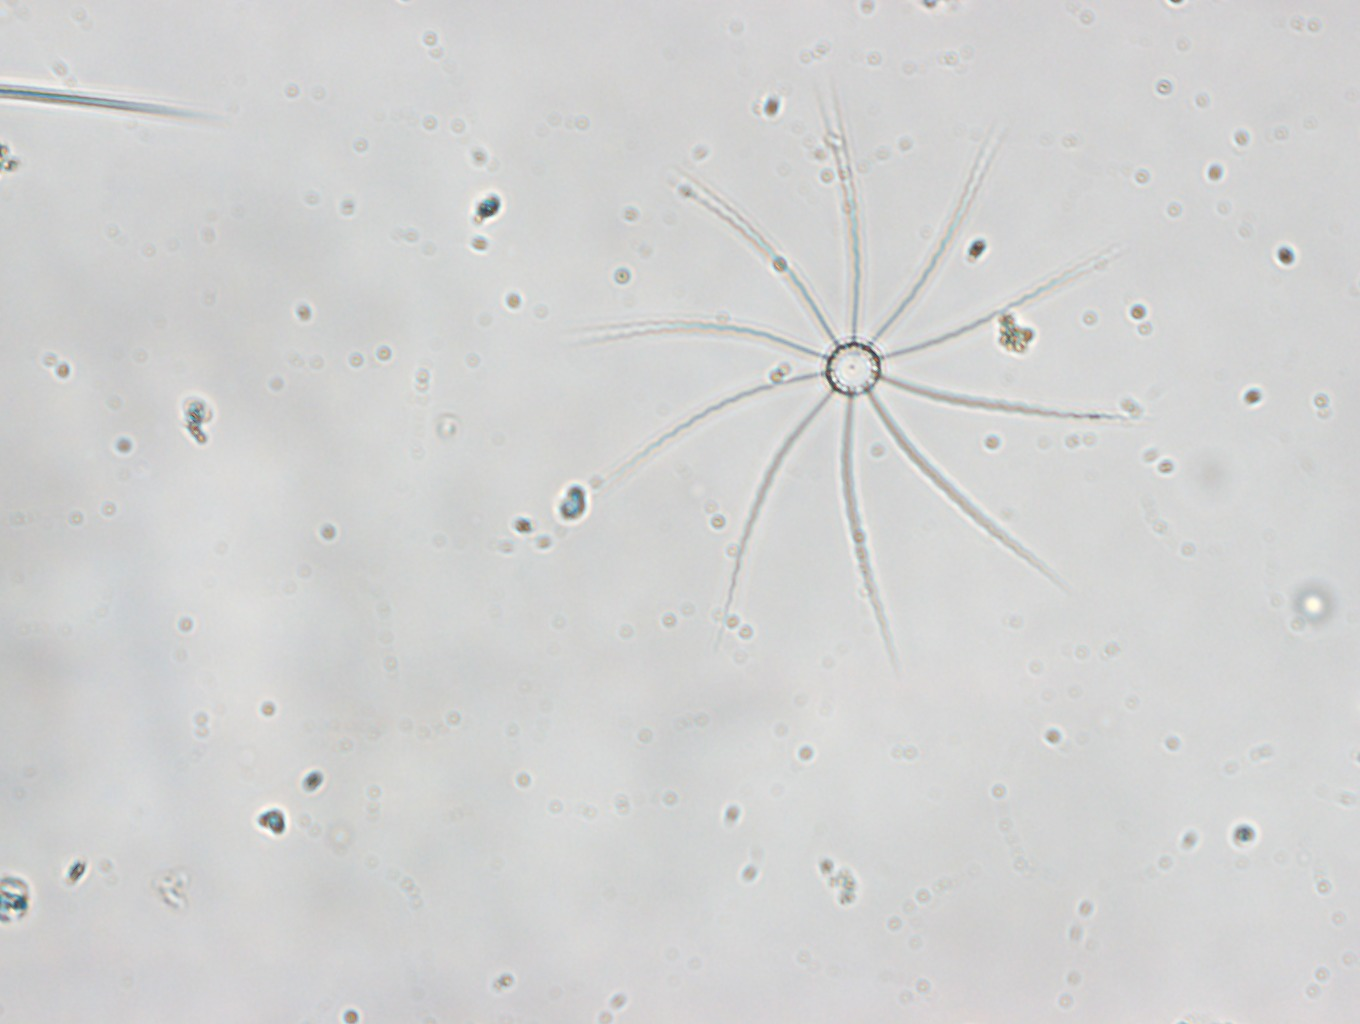bacteriastrum: (576, 77, 1128, 674)
